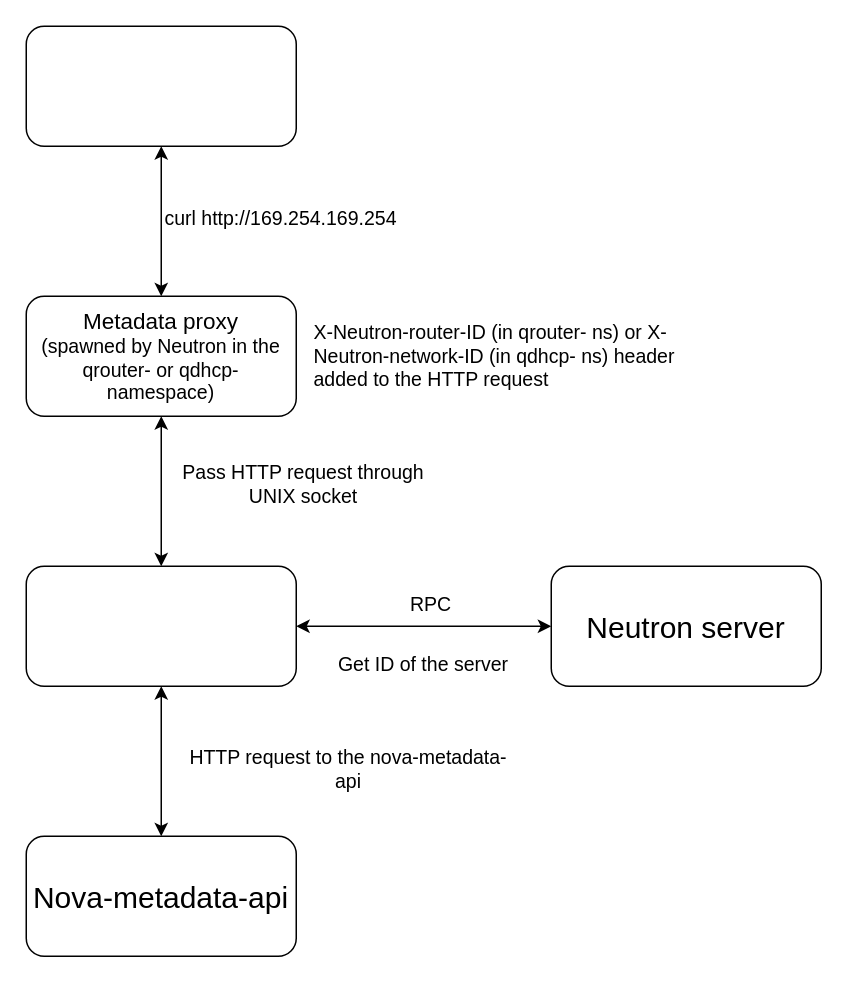
Some shapes in this 848 by 983 pixel diagram are drawn without their labels. The shapes that lost their labels are listed below. From the top down, each one's centre as x and y in pixels, then its label:
the point at 160,85: Virtual Machine
the point at 160,625: Neutron-metadata-agent
